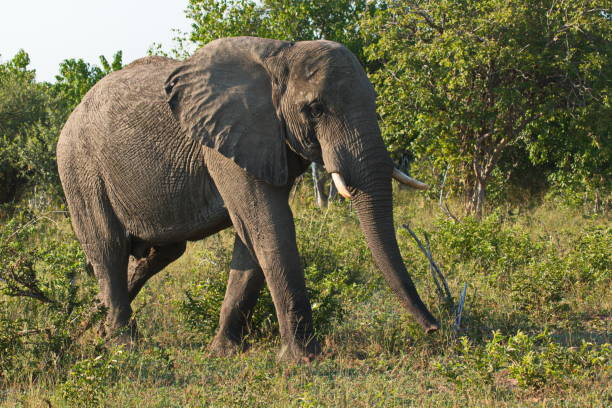africanelephant: (265, 37, 435, 218)
